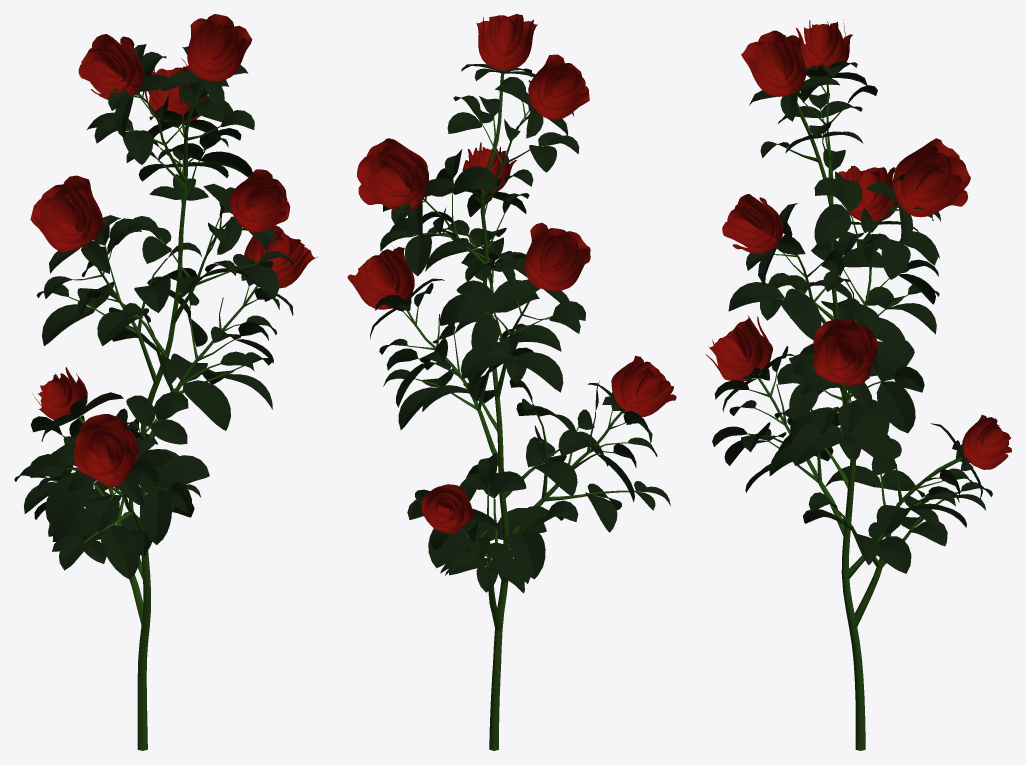
File: Rose 2.fbx
The picture shows the model from 3 angles, left to right: view 1: azimuth 30°, elevation 25°; view 2: azimuth 150°, elevation 25°; view 3: azimuth 270°, elevation 25°; orthographic projection. The views are drawn at different scales.
Parts seen in each view (by area): view 1: rose 2 02; view 2: rose 2 02; view 3: rose 2 02.
Boxes of the visible parts, box(x1,y1,x2,y2) form: rose 2 02: box(14, 14, 317, 750); rose 2 02: box(347, 14, 676, 750); rose 2 02: box(705, 20, 1011, 750).
Size of the model in its own units: 438 by 1054 by 404.
